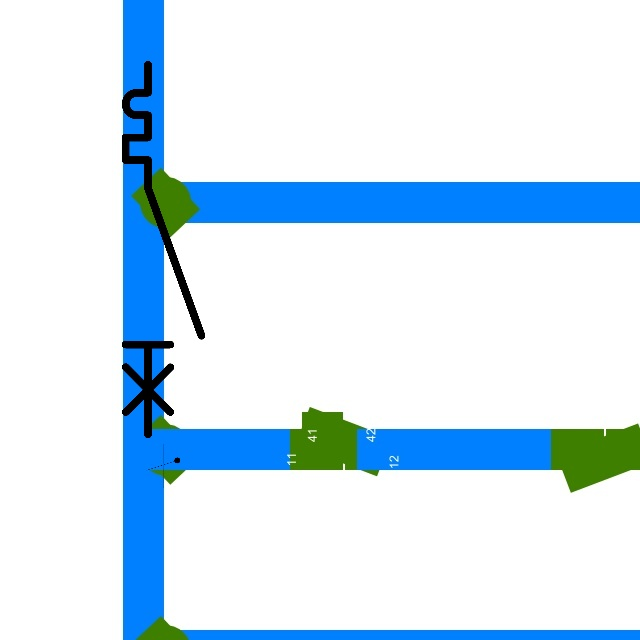interruptor_termomagnetico: (116, 55, 211, 444)
